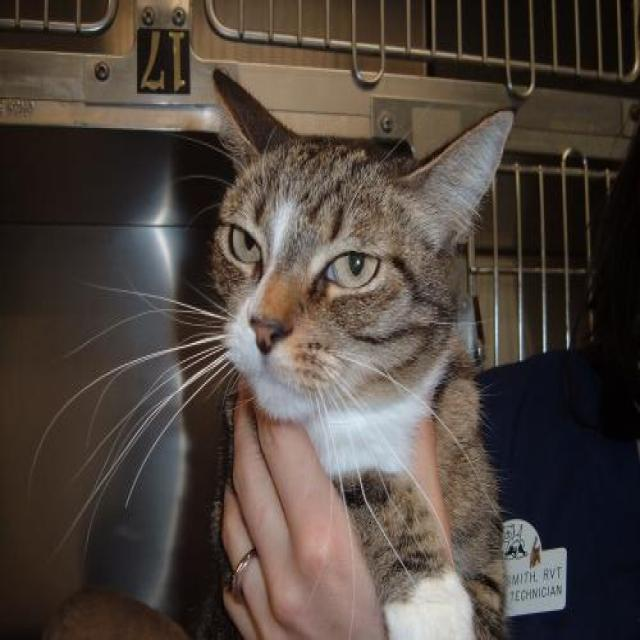Cats: (28, 65, 517, 638)
